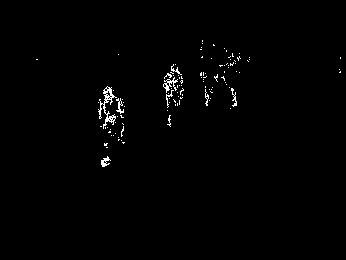person: (96, 84, 127, 167), (161, 62, 185, 128)
